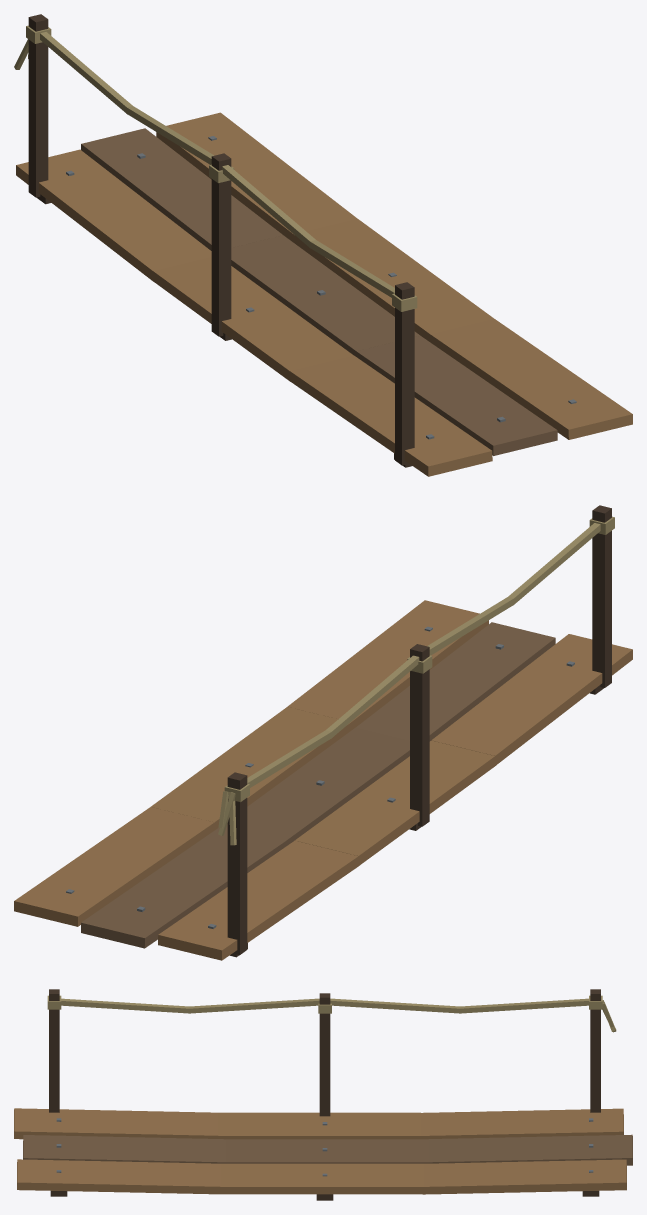
The model's file is roof_plank_4.glb.
The picture shows the model from 3 angles, top to bottom: view 1: azimuth 30°, elevation 25°; view 2: azimuth 150°, elevation 25°; view 3: azimuth 270°, elevation 25°; orthographic projection. The views are drawn at different scales.
Parts seen in each view (by area): view 1: roof_plank_4; view 2: roof_plank_4; view 3: roof_plank_4.
Part boxes in pixels (bbox=[...]): roof_plank_4: bbox=[14, 14, 632, 476]; roof_plank_4: bbox=[14, 505, 632, 960]; roof_plank_4: bbox=[14, 989, 632, 1200].
Size of what is drawn, in the model's own units: 1.2 by 0.9882 by 4.07.
2 materials, 2 textured.
